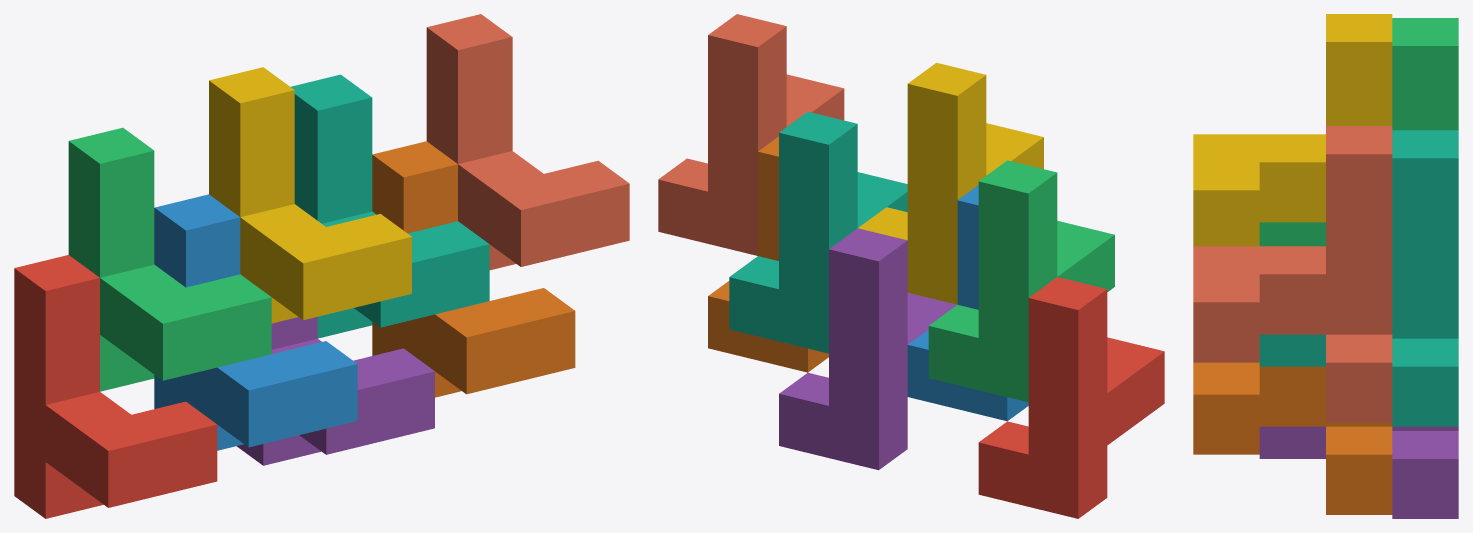
Rendered from tiling.obj.
The picture shows the model from 3 angles, left to right: view 1: azimuth 30°, elevation 25°; view 2: azimuth 150°, elevation 25°; view 3: azimuth 270°, elevation 25°; orthographic projection. The views are drawn at different scales.
Visible parts, largest first — view 1: copy_1_domain_1, copy_1_domain_3, copy_1_domain_8, copy_1_domain_4, copy_1_domain_2, copy_1_domain_6, copy_1_domain_7, copy_1_domain_5; view 2: copy_1_domain_1, copy_1_domain_5, copy_1_domain_3, copy_1_domain_8, copy_1_domain_7, copy_1_domain_4, copy_1_domain_2, copy_1_domain_6; view 3: copy_1_domain_8, copy_1_domain_7, copy_1_domain_4, copy_1_domain_6, copy_1_domain_3, copy_1_domain_5.
Part boxes in pixels (x1=…): copy_1_domain_1: x1=14, y1=255, x2=217, y2=518; copy_1_domain_3: x1=68, y1=127, x2=271, y2=391; copy_1_domain_8: x1=426, y1=14, x2=629, y2=270; copy_1_domain_4: x1=209, y1=67, x2=411, y2=323; copy_1_domain_2: x1=154, y1=194, x2=357, y2=450; copy_1_domain_6: x1=372, y1=141, x2=575, y2=397; copy_1_domain_7: x1=290, y1=74, x2=489, y2=338; copy_1_domain_5: x1=236, y1=317, x2=434, y2=465; copy_1_domain_1: x1=978, y1=277, x2=1164, y2=518; copy_1_domain_5: x1=779, y1=228, x2=956, y2=470; copy_1_domain_3: x1=928, y1=160, x2=1114, y2=402; copy_1_domain_8: x1=658, y1=14, x2=844, y2=255; copy_1_domain_7: x1=729, y1=111, x2=907, y2=353; copy_1_domain_4: x1=858, y1=62, x2=1043, y2=304; copy_1_domain_2: x1=907, y1=185, x2=1028, y2=421; copy_1_domain_6: x1=708, y1=136, x2=828, y2=372; copy_1_domain_8: x1=1193, y1=126, x2=1392, y2=422; copy_1_domain_7: x1=1259, y1=130, x2=1458, y2=426; copy_1_domain_4: x1=1193, y1=14, x2=1392, y2=246; copy_1_domain_6: x1=1193, y1=362, x2=1392, y2=514; copy_1_domain_3: x1=1259, y1=18, x2=1458, y2=246; copy_1_domain_5: x1=1259, y1=426, x2=1458, y2=518.
Size of the model in its own units: 9 by 7 by 4.
